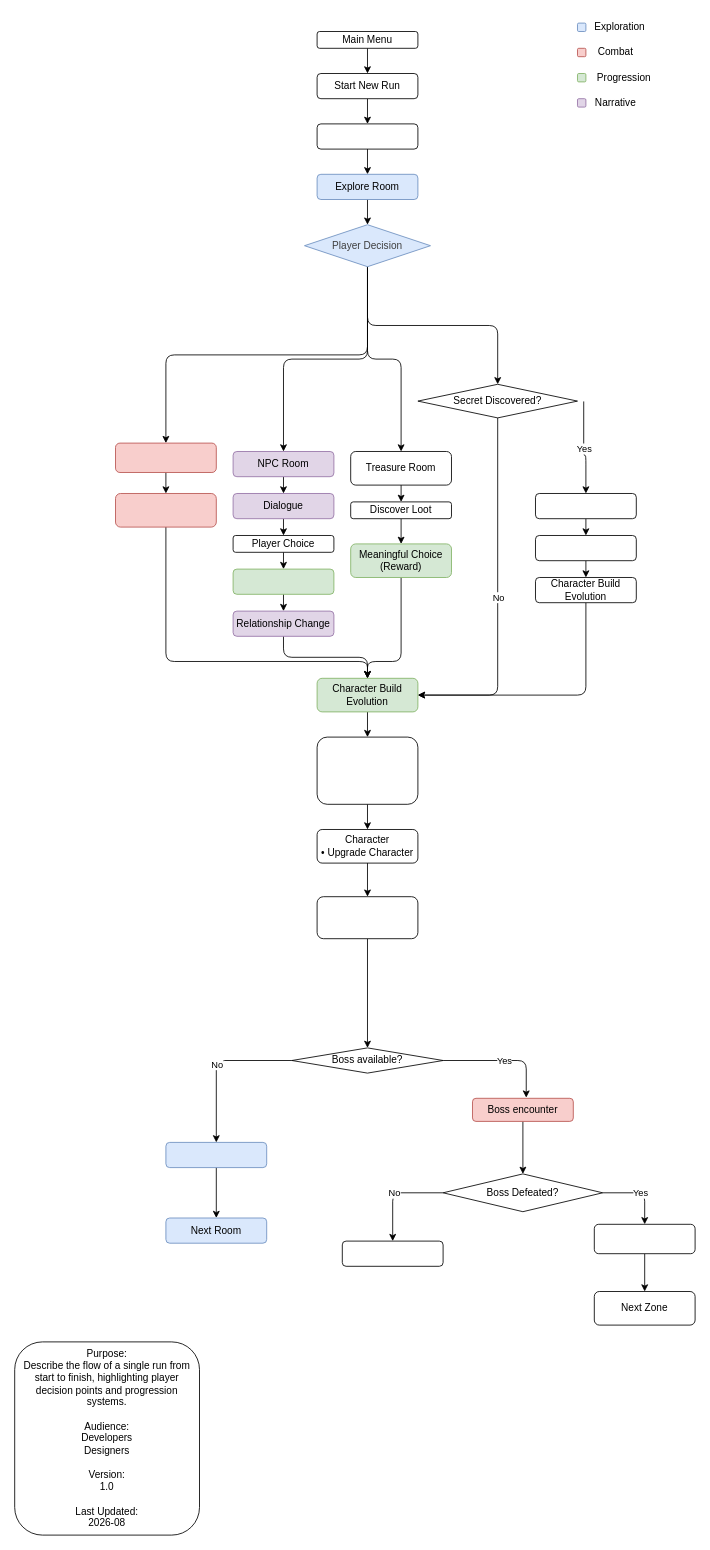
This 710x1550 diagram has some shape labels left out. The centre of each missing label's shape, as x and y in pixels:
"Choose Next Room" belongs at (216,1155).
"Combat Encounter (see Diagram 03)" belongs at (165,510).
"Combat Room" belongs at (165,457).
"End run" belongs at (392,1253).
"Equipment • Equip Weapon • Install Module • Equip Passive" belongs at (367,770).
"Generate World" belongs at (367,136).
"Hidden Area" belongs at (585,506).
"Meaningful Choice" belongs at (644,1238).
"Quest Progress" belongs at (283,581).
"Unique Choice" belongs at (585,548).
"World Progression • Quest Rewards • NPC Unlocks" belongs at (367,917).
